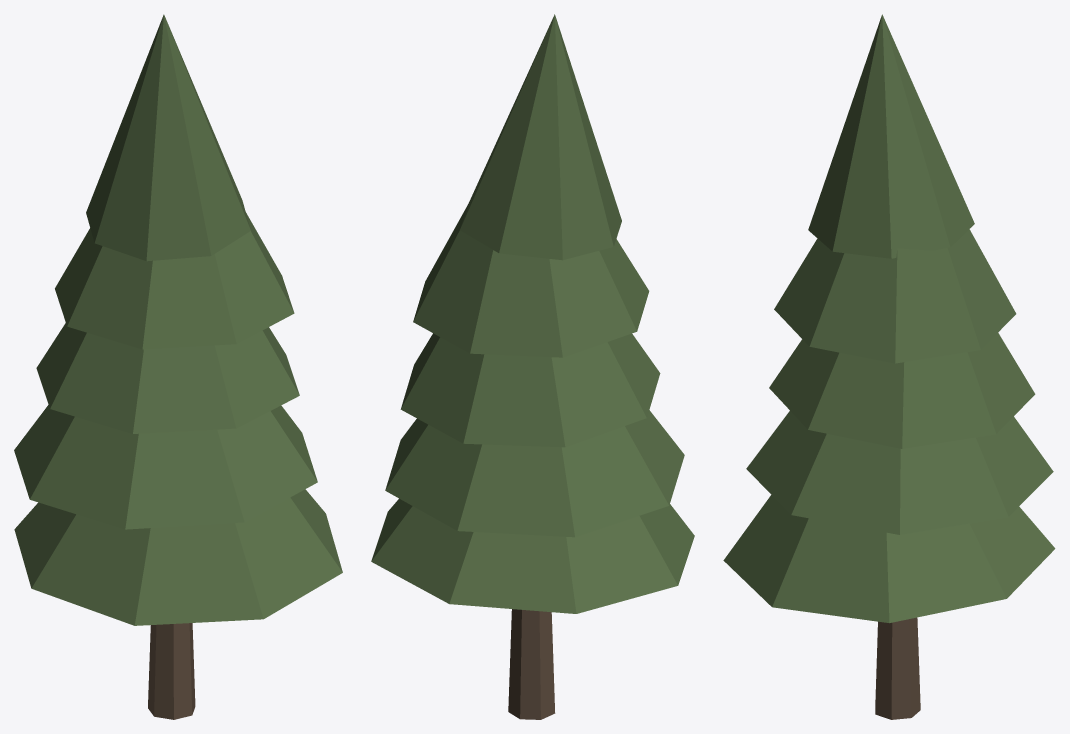
File: tree_pine.glb
The picture shows the model from 3 angles, left to right: view 1: azimuth 30°, elevation 25°; view 2: azimuth 150°, elevation 25°; view 3: azimuth 270°, elevation 25°; orthographic projection. The views are drawn at different scales.
Visible parts, largest first — view 1: tree_pine; view 2: tree_pine; view 3: tree_pine.
Boxes of the visible parts, x1,y1,x2,y2 form: tree_pine: (14, 14, 342, 719); tree_pine: (371, 14, 694, 719); tree_pine: (723, 14, 1055, 719).
Bounding box in the file's own units: 4.11 × 9.39 × 4.1.
